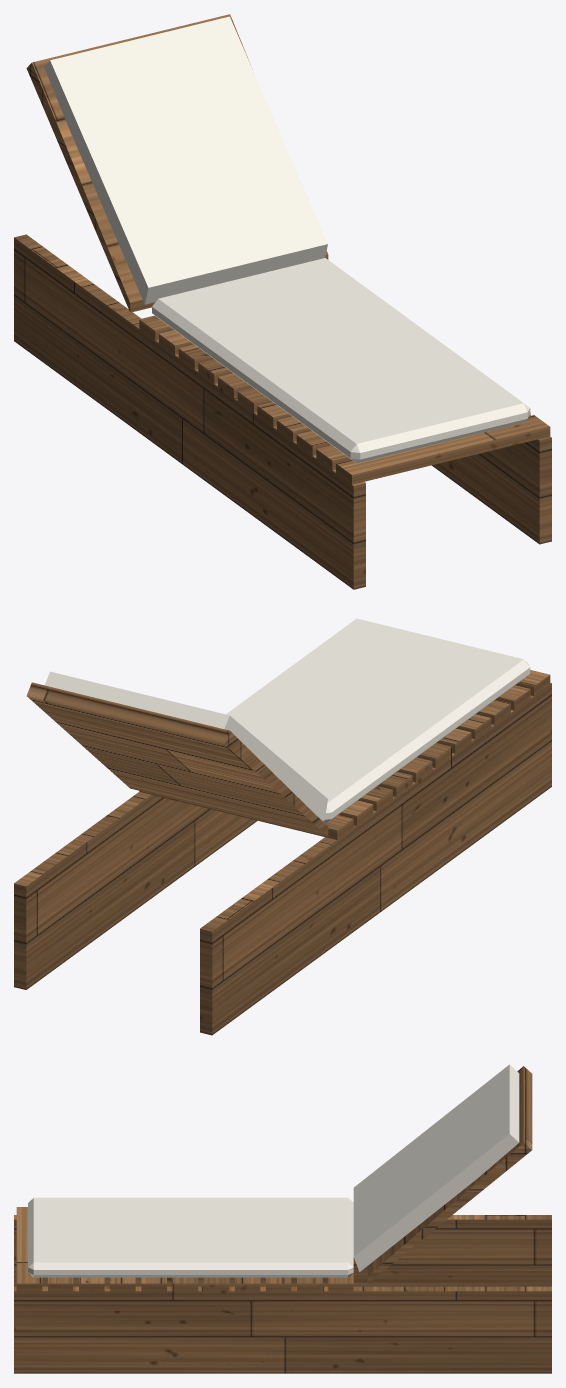
File: lounger.glb
3 views of the same model, one above another, from view 1: azimuth 30°, elevation 25°; view 2: azimuth 150°, elevation 25°; view 3: azimuth 270°, elevation 25° (orthographic). The views are drawn at different scales.
Parts seen in each view (by area): view 1: lounger_awn_w, lounger_timber; view 2: lounger_timber, lounger_awn_w; view 3: lounger_timber, lounger_awn_w.
Boxes of the visible parts, box(x1,y1,x2,y2) form: lounger_awn_w: box(44, 16, 530, 463); lounger_timber: box(14, 14, 551, 589); lounger_timber: box(14, 670, 551, 1035); lounger_awn_w: box(45, 618, 530, 823); lounger_timber: box(14, 1066, 551, 1373); lounger_awn_w: box(28, 1064, 519, 1277).
Size of the model in its own units: 0.64 by 0.92 by 1.9.
2 materials, 1 textured.
